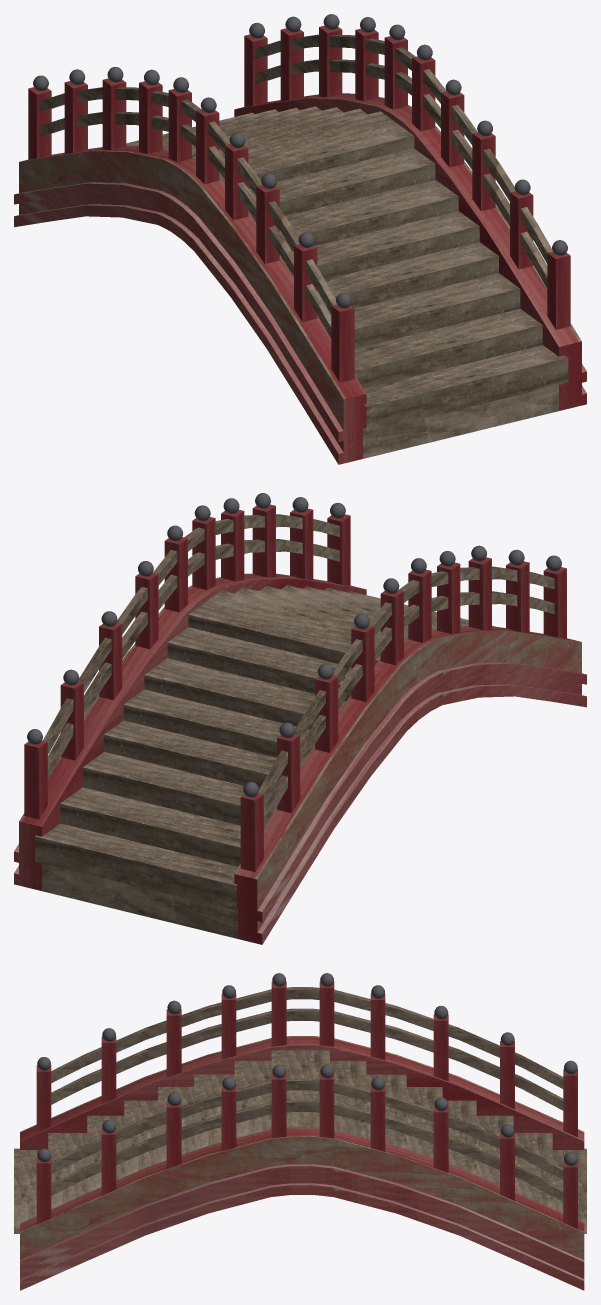
Rendered from Puente.fbx.
3 renders of one model, top to bottom at view 1: azimuth 30°, elevation 25°; view 2: azimuth 150°, elevation 25°; view 3: azimuth 270°, elevation 25°, orthographic. The views are drawn at different scales.
Parts seen in each view (by area): view 1: pSphere14; view 2: pSphere14; view 3: pSphere14.
Part boxes in pixels (<box>): pSphere14: <box>14,14,586,464</box>; pSphere14: <box>14,493,586,944</box>; pSphere14: <box>14,973,586,1290</box>.
Bounding box in the file's own units: 101 × 98.34 × 232.
Materials: 1 (1 with a texture image).
